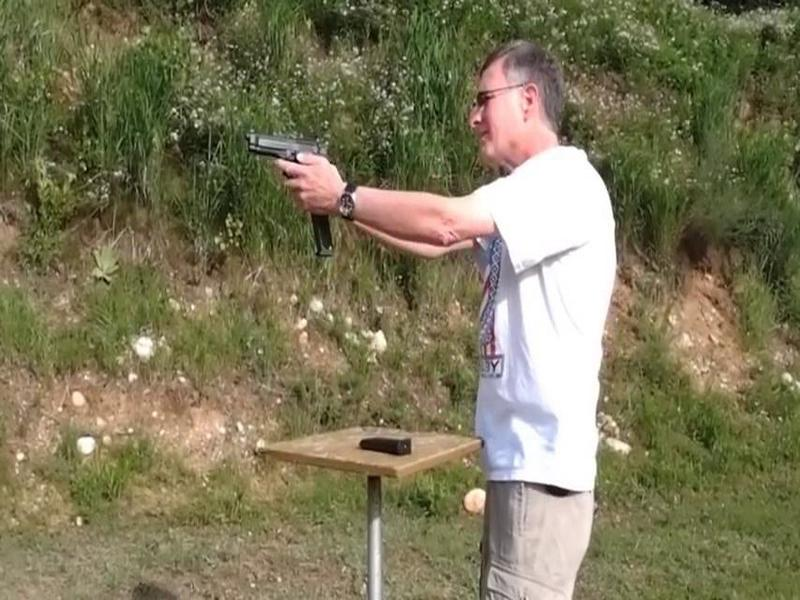Pistola: (230, 125, 362, 238)
